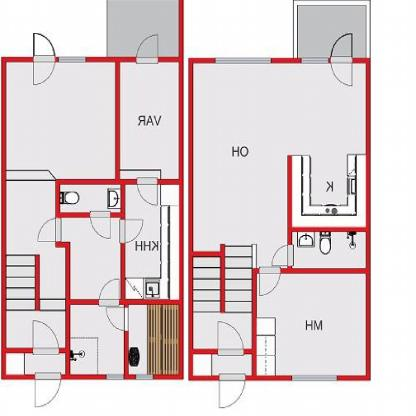door: (31, 30, 59, 88), (331, 31, 355, 91), (35, 371, 62, 408), (31, 320, 60, 354), (218, 319, 244, 356), (218, 373, 244, 409), (257, 266, 283, 298), (137, 33, 160, 67), (135, 176, 158, 209), (272, 240, 296, 271), (36, 216, 61, 243), (90, 212, 112, 242), (99, 276, 120, 306), (105, 305, 128, 331), (119, 221, 143, 244)
window: (291, 374, 338, 382), (214, 58, 272, 64), (301, 57, 328, 64), (59, 56, 86, 62), (136, 373, 152, 382), (107, 375, 124, 382)
zone: (193, 63, 368, 350), (8, 62, 115, 179), (256, 275, 366, 376), (6, 181, 65, 347), (122, 60, 178, 181), (125, 185, 180, 300), (60, 215, 121, 298), (108, 1, 179, 58), (70, 304, 124, 375), (128, 301, 178, 374), (299, 4, 366, 58), (291, 230, 366, 269), (59, 184, 121, 214), (6, 352, 65, 376)
